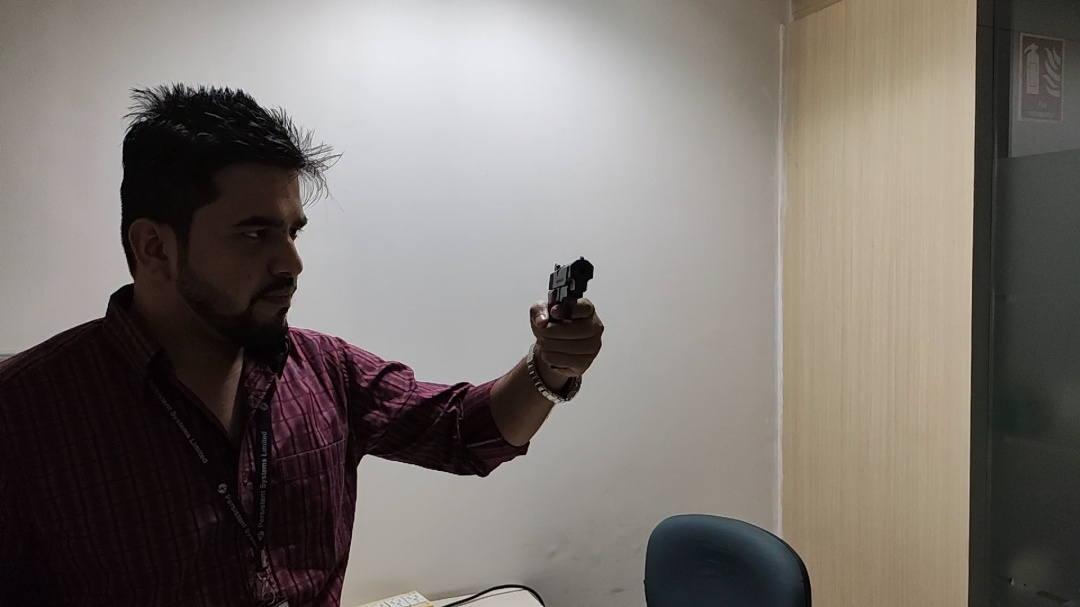gun: (545, 252, 598, 372)
